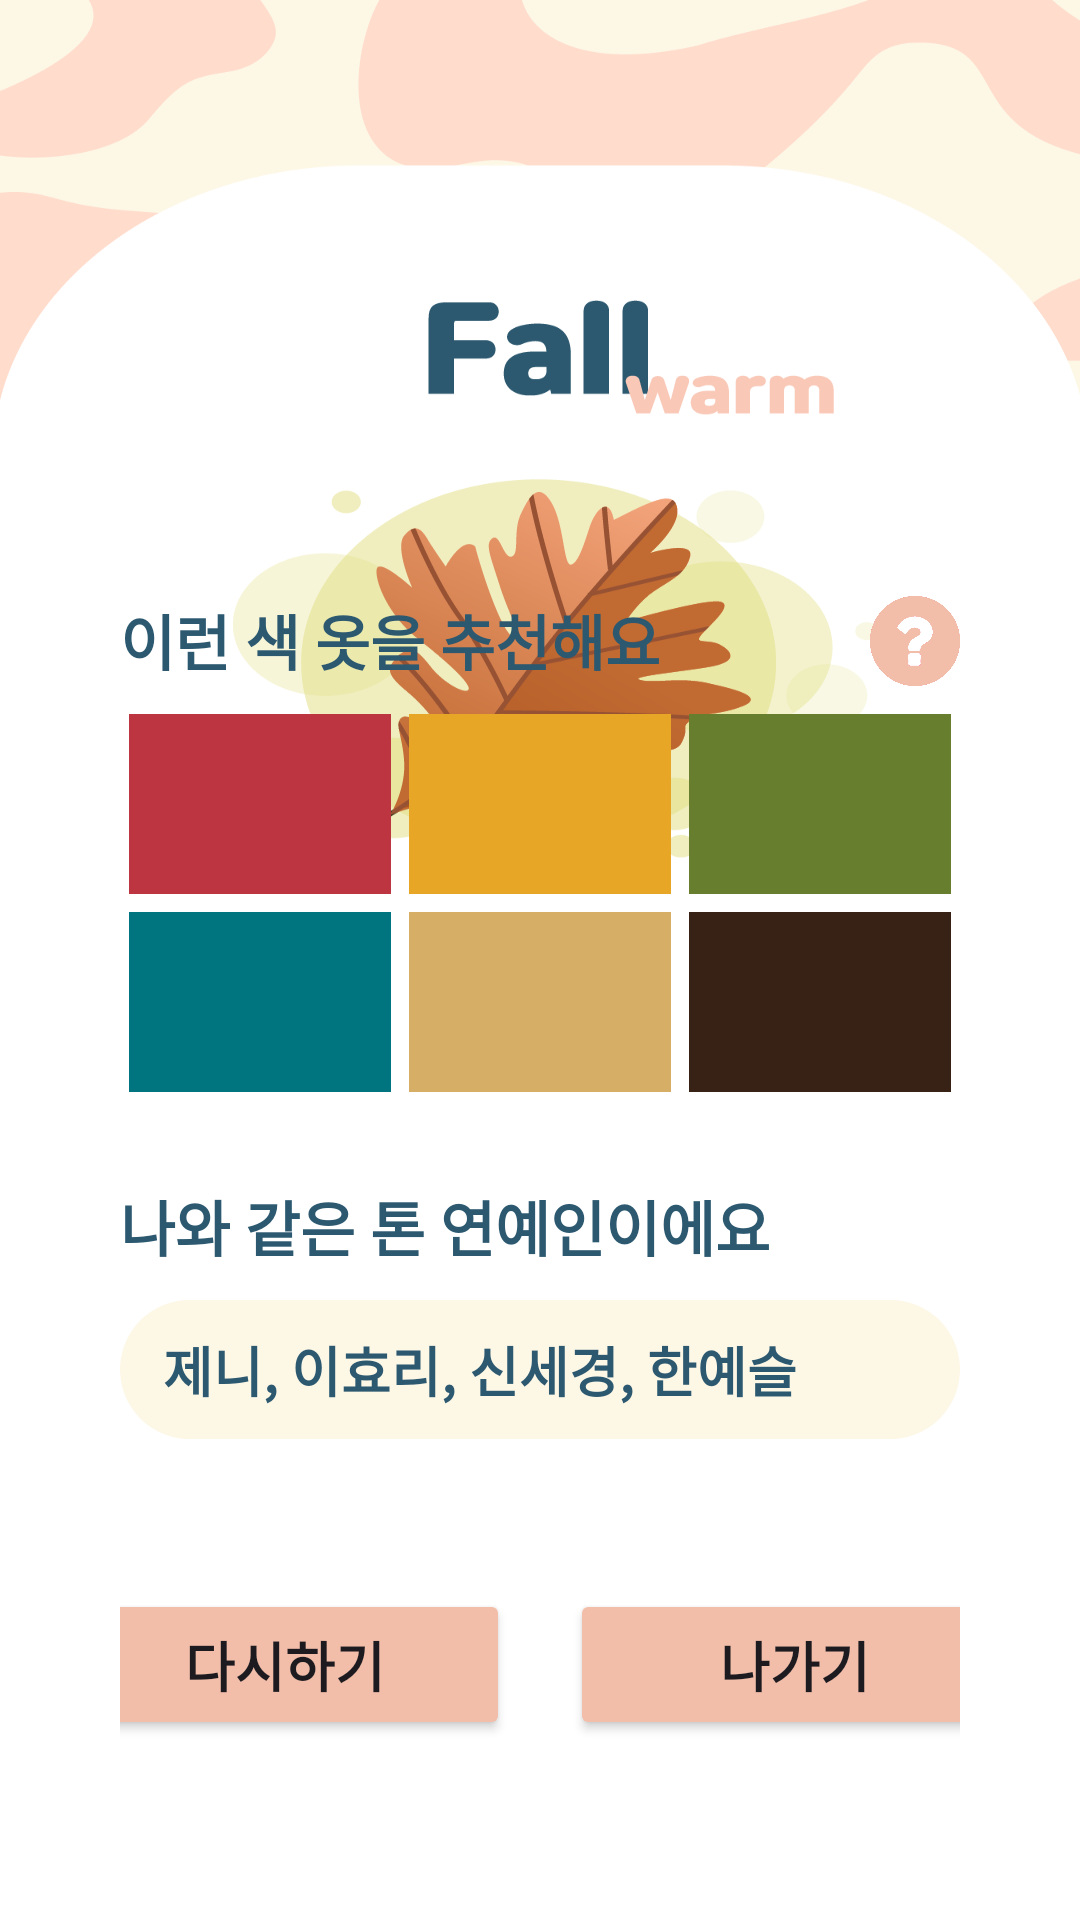

Where to tap for icons on this 1080w x 1920h app screen, as [x,y]:
question mark: [915,641]
